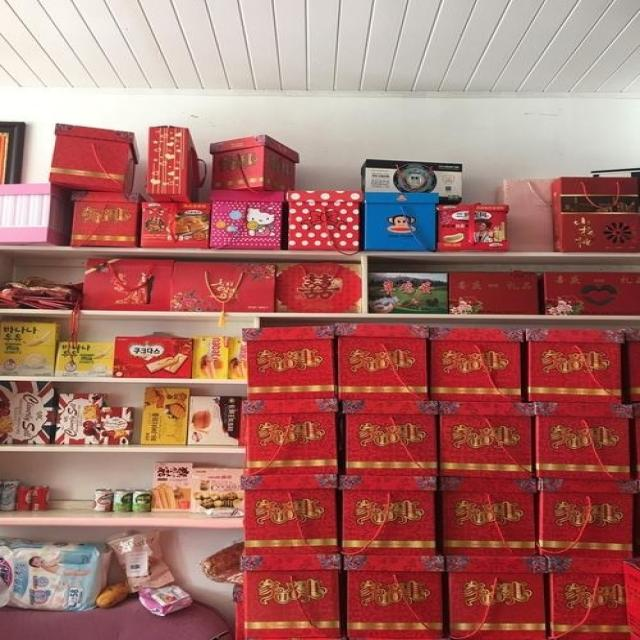box: (443, 556, 549, 640), (239, 554, 343, 639), (344, 556, 445, 640), (532, 402, 634, 482), (536, 479, 639, 558), (339, 474, 438, 556), (439, 477, 540, 556), (241, 474, 339, 554), (239, 397, 339, 475), (522, 329, 625, 403), (339, 401, 439, 477), (335, 321, 430, 400), (547, 556, 636, 640), (440, 401, 535, 479), (239, 325, 337, 399), (429, 328, 525, 402), (549, 177, 640, 252), (49, 123, 141, 193), (170, 261, 276, 312), (210, 134, 300, 191), (83, 257, 175, 310), (285, 190, 364, 250), (0, 182, 72, 247), (495, 178, 558, 250), (360, 159, 462, 203), (211, 189, 285, 249), (276, 261, 362, 312), (541, 272, 640, 316), (365, 192, 439, 250), (146, 125, 200, 202), (448, 271, 540, 315), (55, 393, 134, 444), (72, 192, 142, 246), (0, 382, 58, 443), (438, 205, 511, 252), (141, 201, 210, 249), (0, 320, 60, 375), (369, 272, 449, 313), (115, 336, 192, 377), (140, 387, 192, 444), (188, 396, 247, 445), (192, 336, 247, 378), (192, 468, 244, 512), (151, 462, 196, 511), (55, 342, 115, 378), (623, 326, 640, 402), (625, 557, 640, 640)
